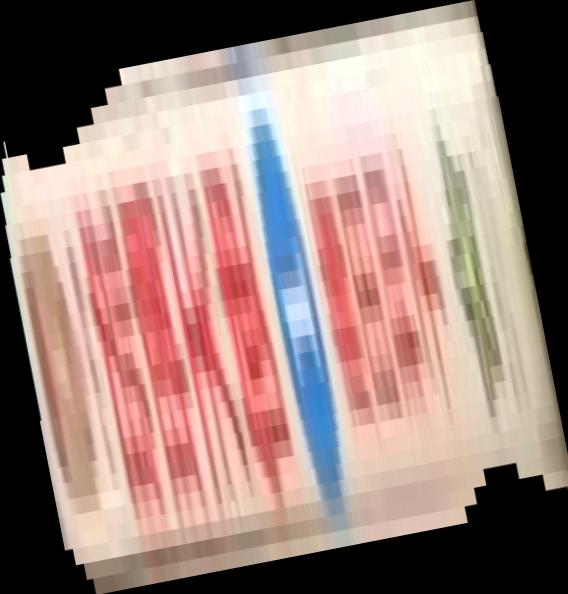flat: (1, 1, 568, 594)
